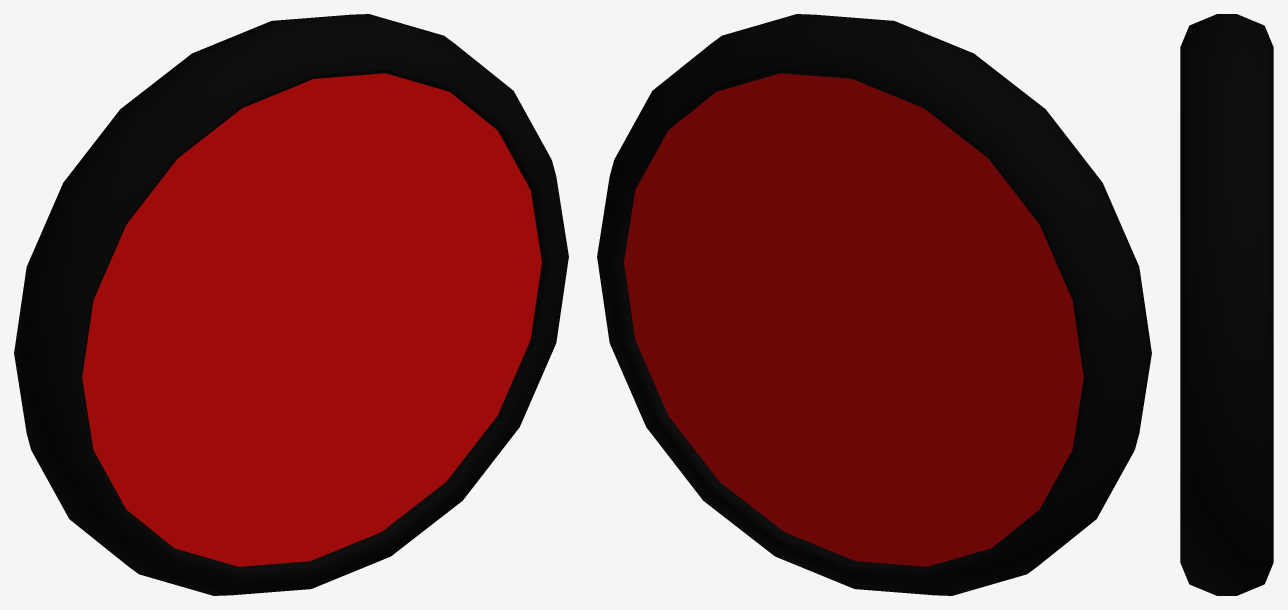
The model's file is Infinite_Ammo.fbx.
3 views of the same model, side by side, from view 1: azimuth 30°, elevation 25°; view 2: azimuth 150°, elevation 25°; view 3: azimuth 270°, elevation 25° (orthographic). The views are drawn at different scales.
Visible parts, largest first — view 1: Infinite_Ammo; view 2: Infinite_Ammo; view 3: Infinite_Ammo.
Boxes of the visible parts, x1=… form: Infinite_Ammo: x1=14, y1=14, x2=568, y2=595; Infinite_Ammo: x1=597, y1=14, x2=1151, y2=595; Infinite_Ammo: x1=1180, y1=14, x2=1273, y2=595.
Size of the model in its own units: 124 by 124 by 19.73.
